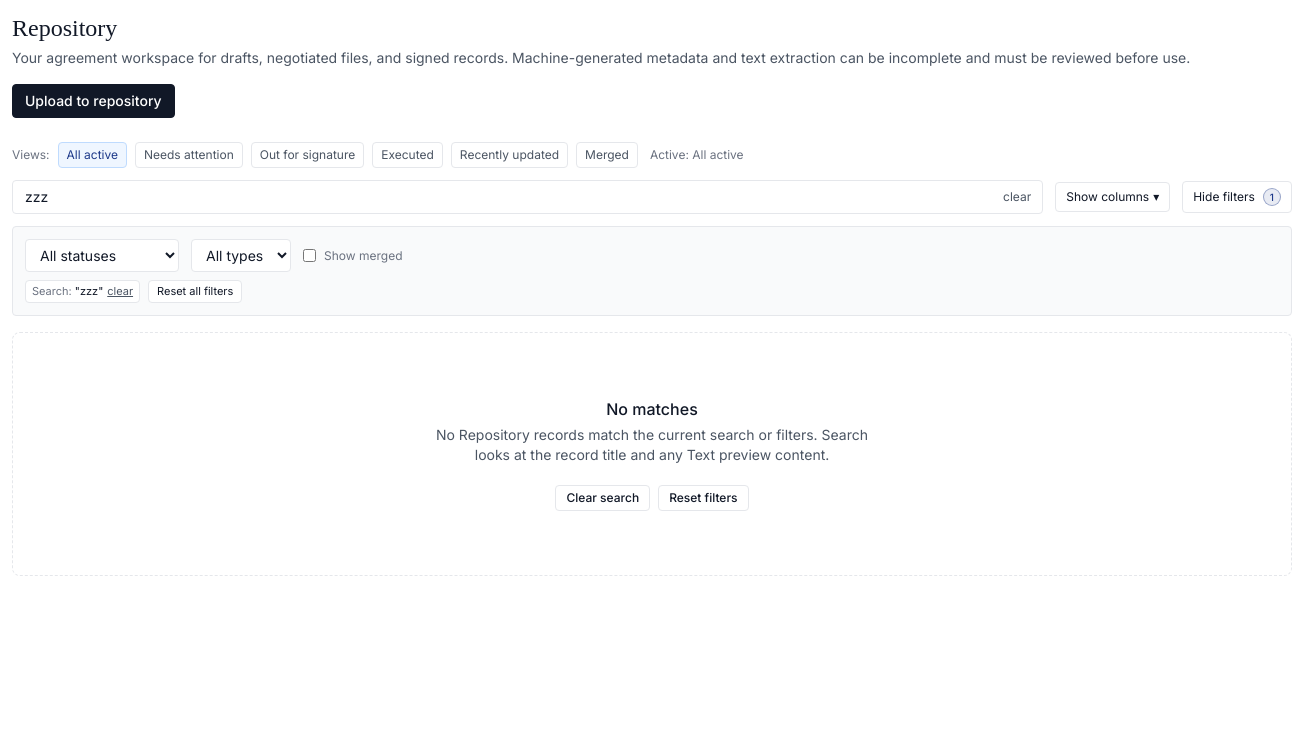
Test: ContractsPage (Repository list) › no-matches empty state offers Clear search AND Reset filters
expect the heading "No matches" is shown: met, box [606,396,698,420]
expect the button with test id "repository-empty-clear-search" is shown: met, box [556,484,650,510]
Click the button with test id "repository-empty-reset-filters" at (703, 498), box [658,484,748,510]
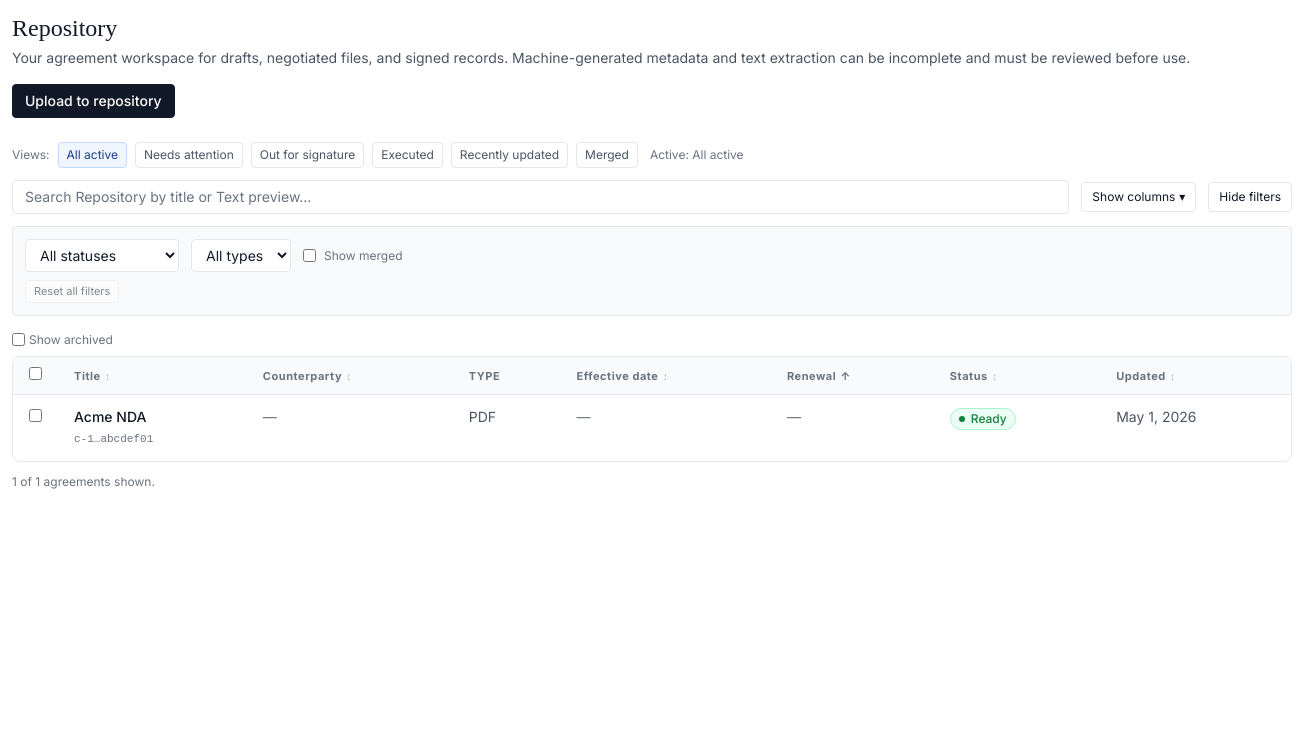
expect the search field with test id "repository-search" is empty: met, box [12,180,1069,214]
